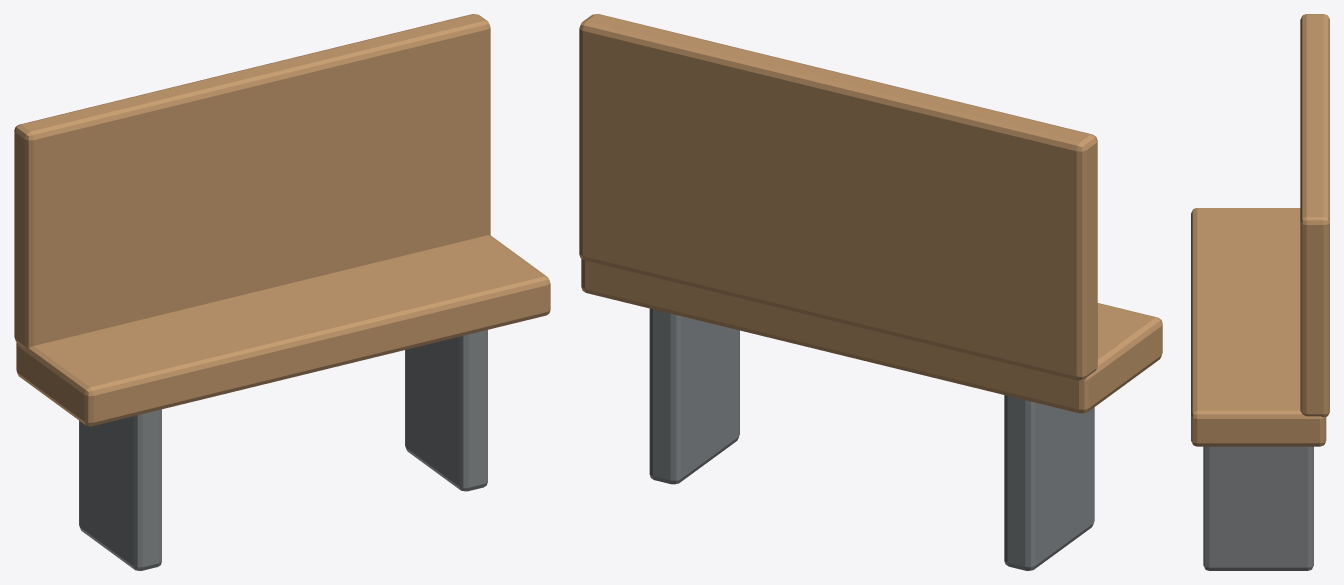
The model's file is Prop_Street_006.glb.
3 views of the same model, side by side, from view 1: azimuth 30°, elevation 25°; view 2: azimuth 150°, elevation 25°; view 3: azimuth 270°, elevation 25° (orthographic). The views are drawn at different scales.
Parts seen in each view (by area): view 1: Prop_Street_006; view 2: Prop_Street_006; view 3: Prop_Street_006.
Part boxes in pixels (<box>): Prop_Street_006: <box>14,14,550,570</box>; Prop_Street_006: <box>579,14,1162,570</box>; Prop_Street_006: <box>1191,14,1329,570</box>.
Bounding box in the file's own units: 2 × 1.7 × 0.565.
